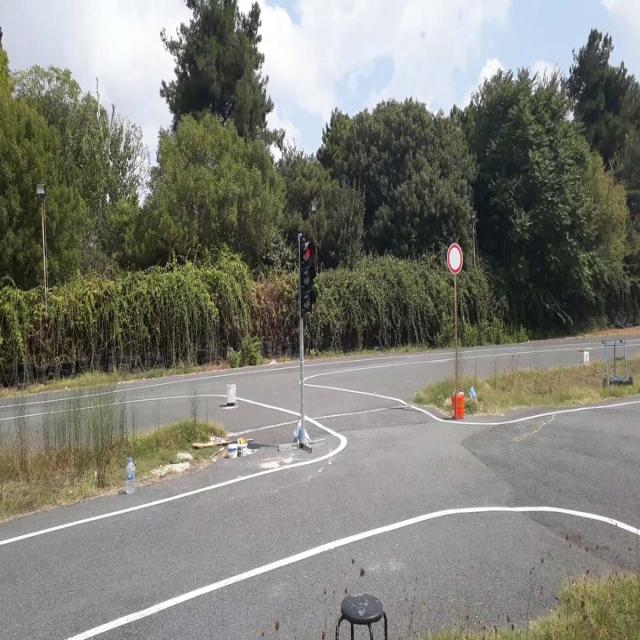kirmizi: (299, 242, 314, 310)
